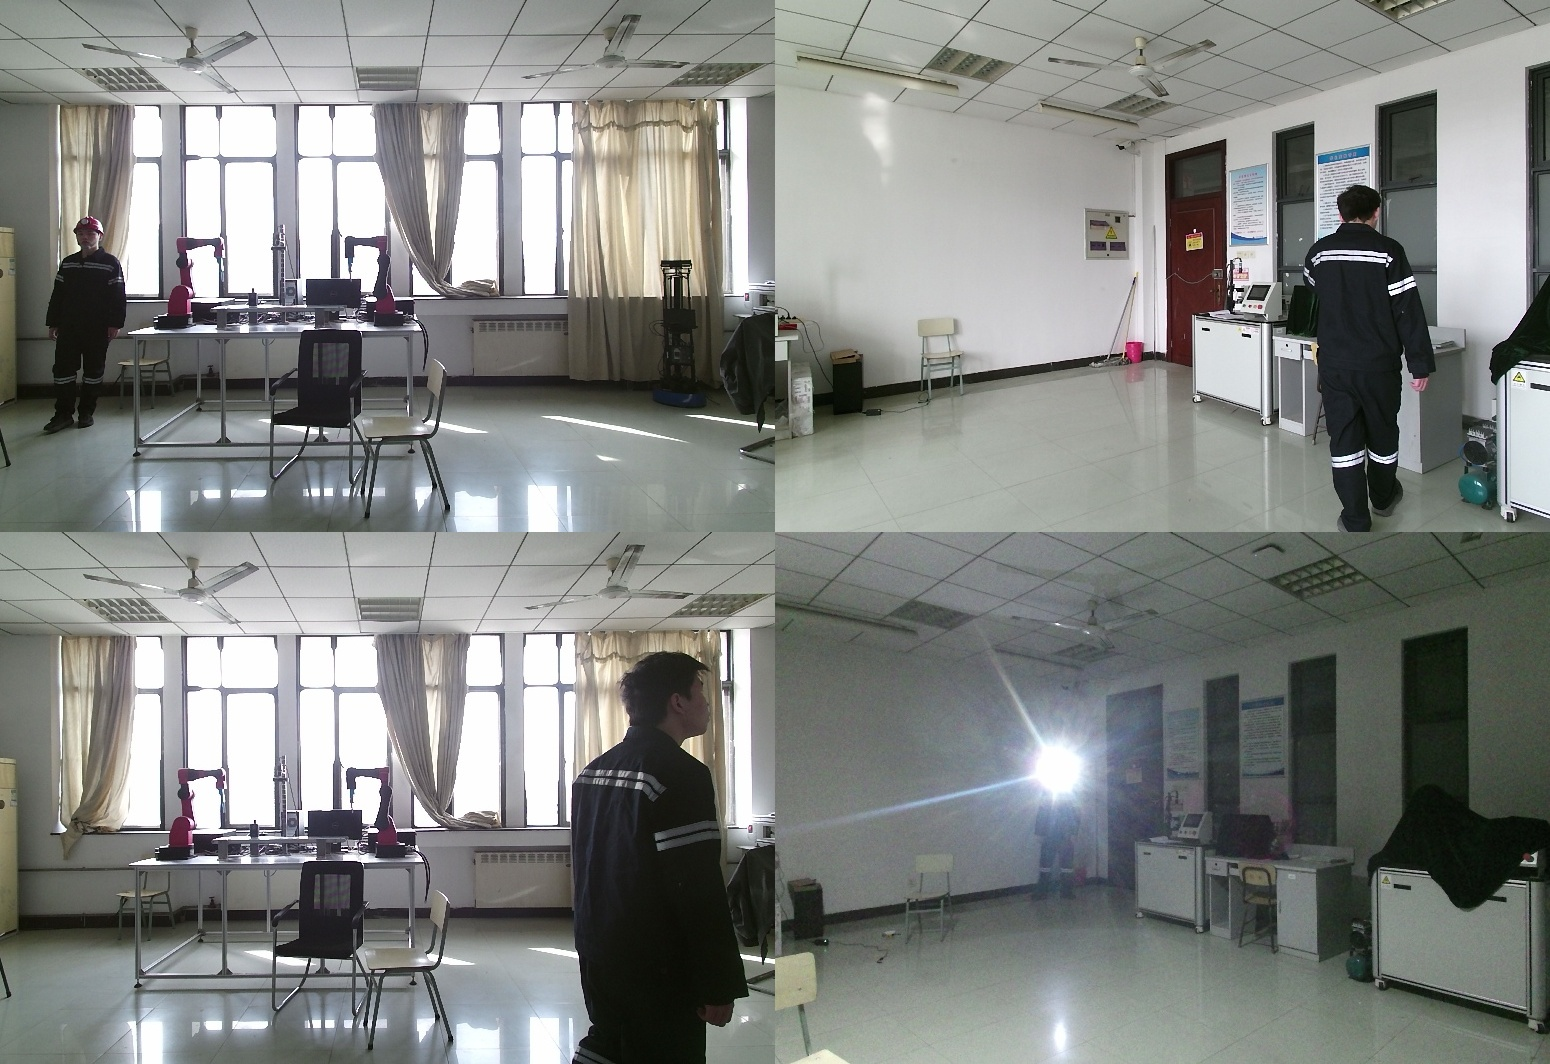person: (573, 654, 763, 1064), (1299, 189, 1450, 532), (40, 215, 127, 433), (1035, 766, 1083, 901)
